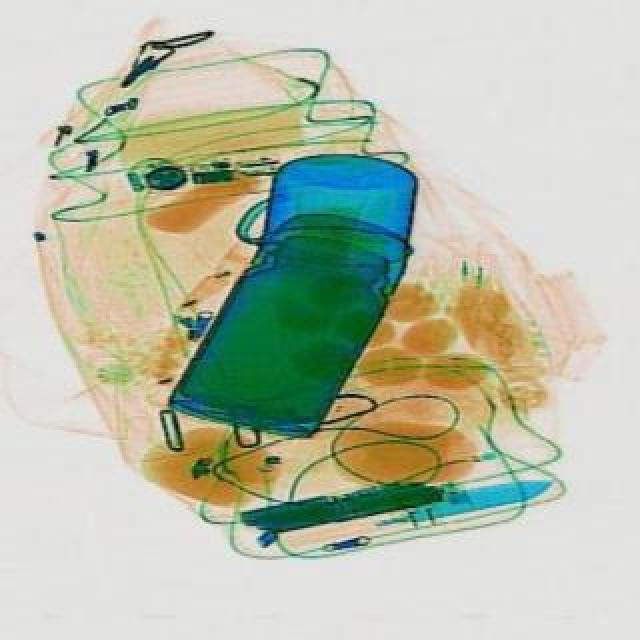knife: (366, 470, 552, 532)
